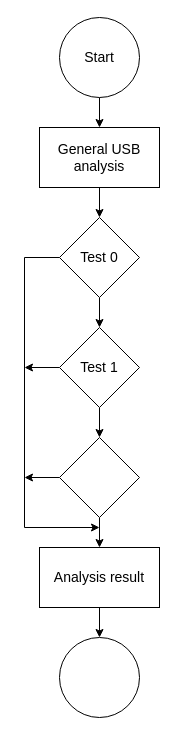
The diagram is 177 pixels wide and 735 high, and some of its shapes have lost their labels. The shapes that lost their labels are listed below. From the top down, each one's centre as x and y in pixels, then its label:
At point 99,477: "Test n".
At point 99,677: "End".
